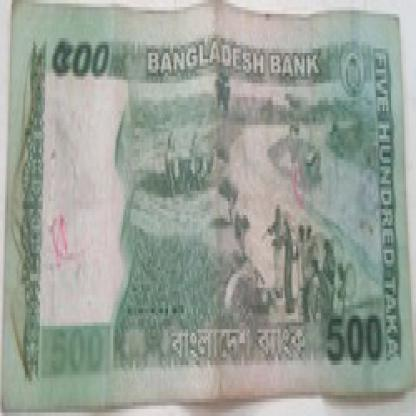500 taka: (38, 21, 136, 83)
currency: (3, 7, 414, 412)
